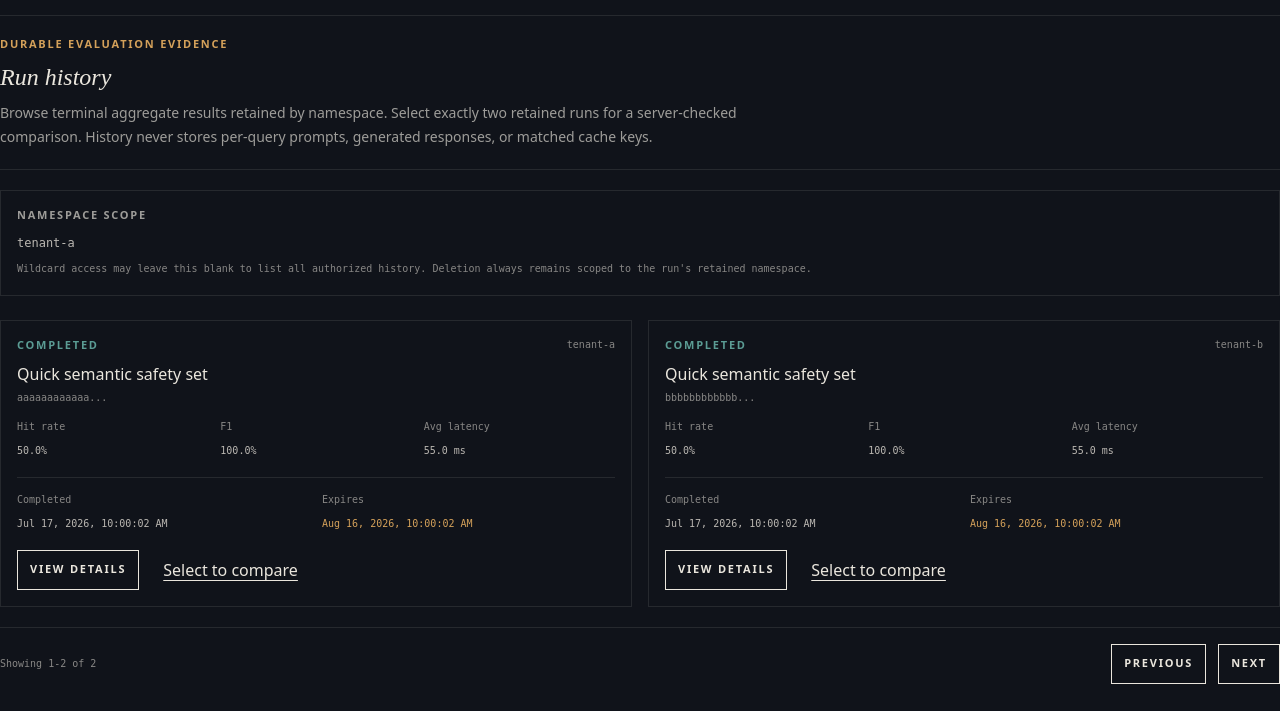
Test case: evaluation run comparison UI › shows server blockers without rendering metric deltas
Click the 1st button "Select to compare" at (231, 570), box [151, 550, 310, 590]
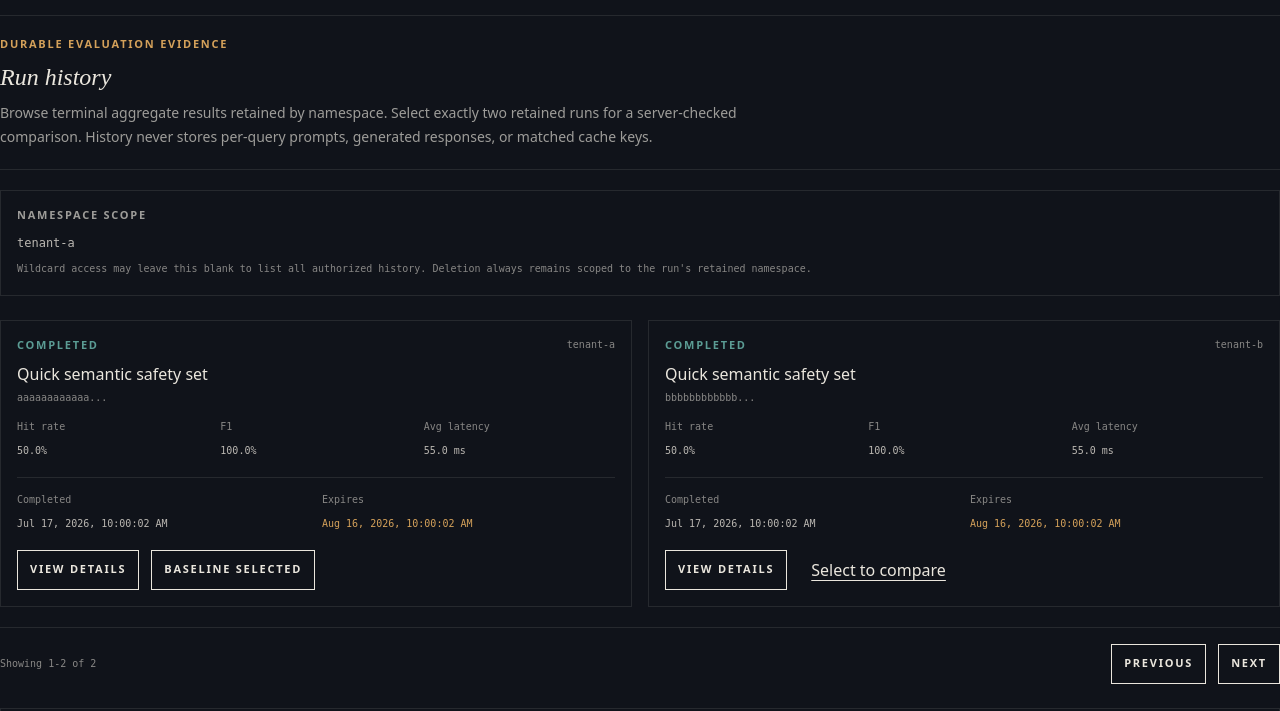
Click the button "Select to compare" at (879, 570), box [799, 550, 958, 590]
(page scrolled)
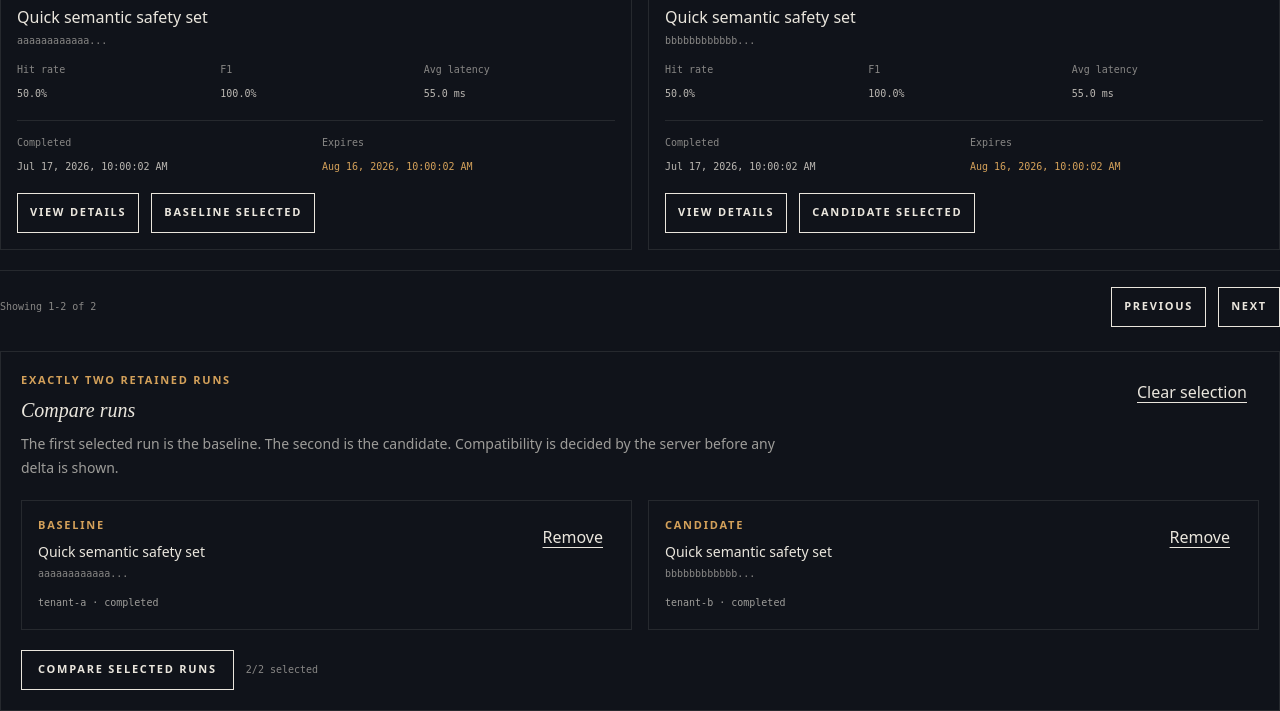
Click the button "Compare selected runs" at (127, 670), box [21, 650, 234, 690]
(page scrolled)
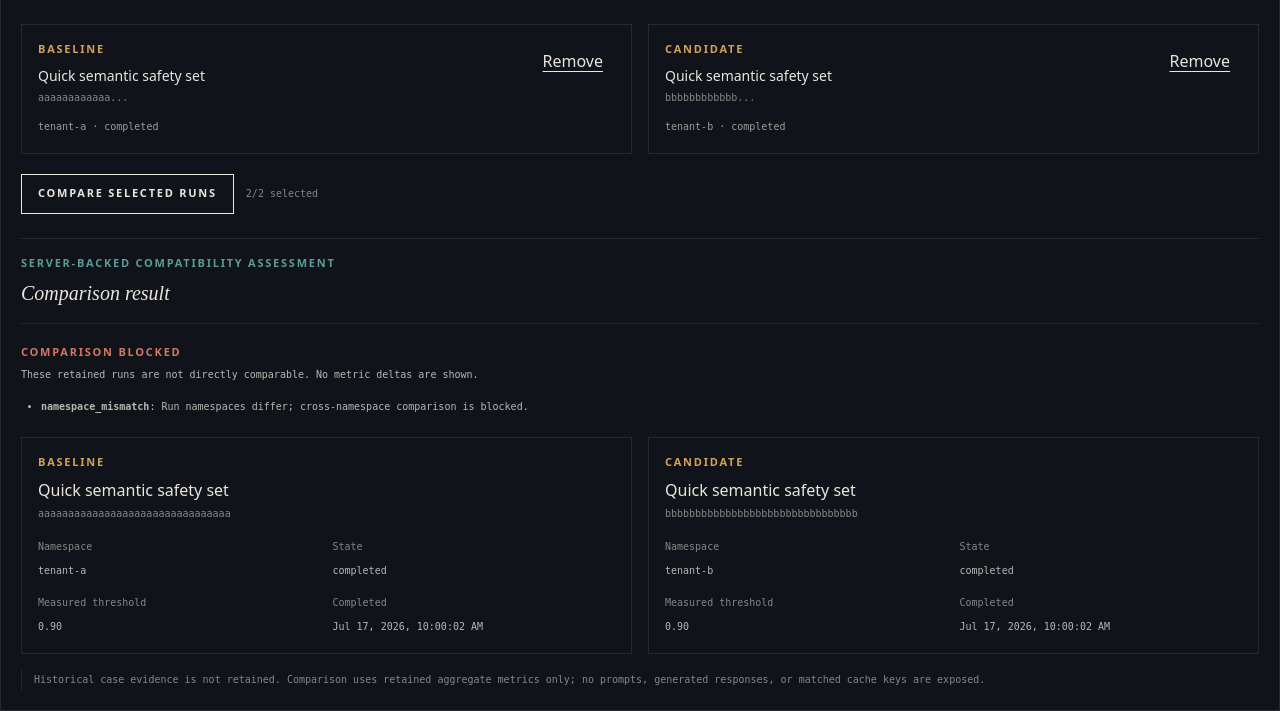
Expected: the text "Comparison blocked" is shown, [21, 344, 182, 359]
Expected: the text "namespace_mismatch" is shown, [41, 400, 149, 412]
